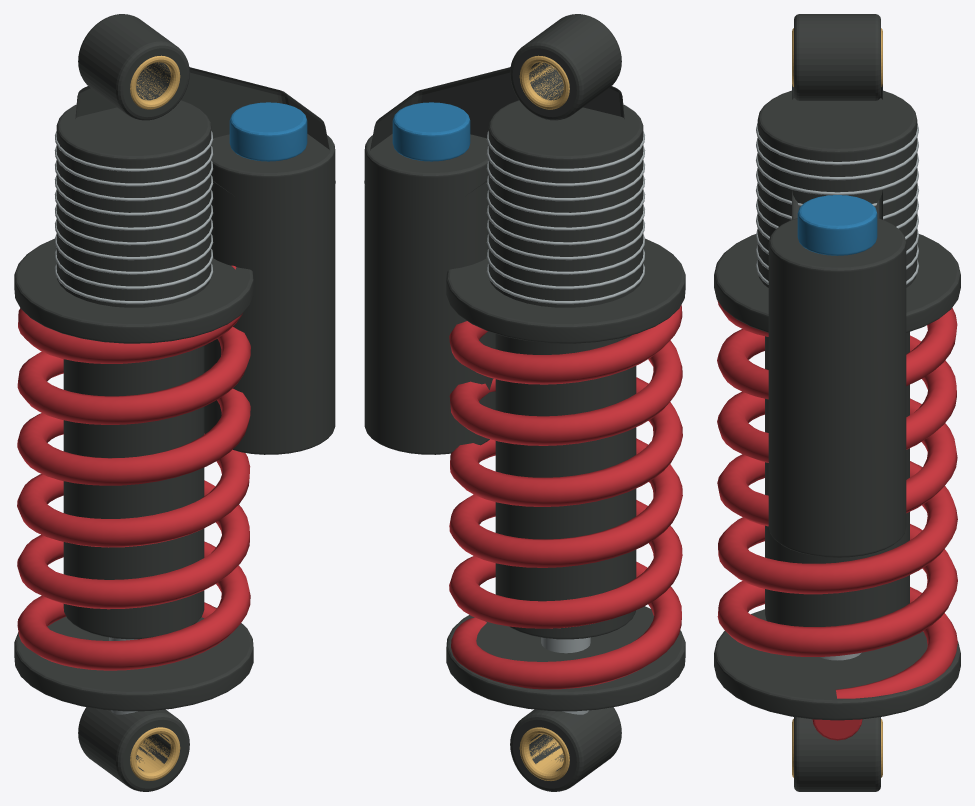
Rendered from rockshox-vivid-coil-ultimate-d1--0bfb0f0f.glb.
3 renders of one model, left to right at view 1: azimuth 30°, elevation 25°; view 2: azimuth 150°, elevation 25°; view 3: azimuth 270°, elevation 25°, orthographic. The views are drawn at different scales.
Visible parts, largest first — view 1: rockshox-vivid-coil-ultimate-d1--0bfb0f0f__link, rockshox-vivid-coil-ultimate-d1--0bfb0f0f__rebound, rockshox-vivid-coil-ultimate-d1--0bfb0f0f__bolts, rockshox-vivid-coil-ultimate-d1--0bfb0f0f__adjuster, rockshox-vivid-coil-ultimate-d1--0bfb0f0f__stanchions; view 2: rockshox-vivid-coil-ultimate-d1--0bfb0f0f__link, rockshox-vivid-coil-ultimate-d1--0bfb0f0f__rebound, rockshox-vivid-coil-ultimate-d1--0bfb0f0f__bolts, rockshox-vivid-coil-ultimate-d1--0bfb0f0f__adjuster, rockshox-vivid-coil-ultimate-d1--0bfb0f0f__stanchions; view 3: rockshox-vivid-coil-ultimate-d1--0bfb0f0f__link, rockshox-vivid-coil-ultimate-d1--0bfb0f0f__rebound, rockshox-vivid-coil-ultimate-d1--0bfb0f0f__adjuster, rockshox-vivid-coil-ultimate-d1--0bfb0f0f__bolts, rockshox-vivid-coil-ultimate-d1--0bfb0f0f__stanchions.
Boxes of the visible parts, bbox=[...] form: rockshox-vivid-coil-ultimate-d1--0bfb0f0f__link: bbox=[14, 14, 335, 791]; rockshox-vivid-coil-ultimate-d1--0bfb0f0f__rebound: bbox=[17, 265, 250, 670]; rockshox-vivid-coil-ultimate-d1--0bfb0f0f__bolts: bbox=[54, 131, 213, 714]; rockshox-vivid-coil-ultimate-d1--0bfb0f0f__adjuster: bbox=[229, 102, 307, 161]; rockshox-vivid-coil-ultimate-d1--0bfb0f0f__stanchions: bbox=[130, 55, 180, 780]; rockshox-vivid-coil-ultimate-d1--0bfb0f0f__link: bbox=[364, 14, 685, 791]; rockshox-vivid-coil-ultimate-d1--0bfb0f0f__rebound: bbox=[449, 305, 682, 689]; rockshox-vivid-coil-ultimate-d1--0bfb0f0f__bolts: bbox=[486, 131, 645, 714]; rockshox-vivid-coil-ultimate-d1--0bfb0f0f__adjuster: bbox=[392, 102, 470, 161]; rockshox-vivid-coil-ultimate-d1--0bfb0f0f__stanchions: bbox=[519, 55, 569, 780]; rockshox-vivid-coil-ultimate-d1--0bfb0f0f__link: bbox=[714, 14, 960, 791]; rockshox-vivid-coil-ultimate-d1--0bfb0f0f__rebound: bbox=[717, 301, 957, 740]; rockshox-vivid-coil-ultimate-d1--0bfb0f0f__adjuster: bbox=[797, 195, 877, 255]; rockshox-vivid-coil-ultimate-d1--0bfb0f0f__bolts: bbox=[756, 123, 918, 660]; rockshox-vivid-coil-ultimate-d1--0bfb0f0f__stanchions: bbox=[792, 28, 882, 777].
Size of the model in its own units: 0.097 by 0.234 by 0.068.
